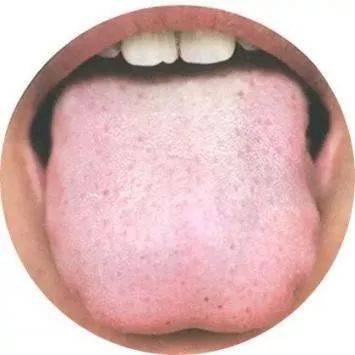baitaishe: (47, 66, 322, 334)
hongdianshe: (202, 294, 210, 304)
hongshe: (47, 66, 322, 334)
